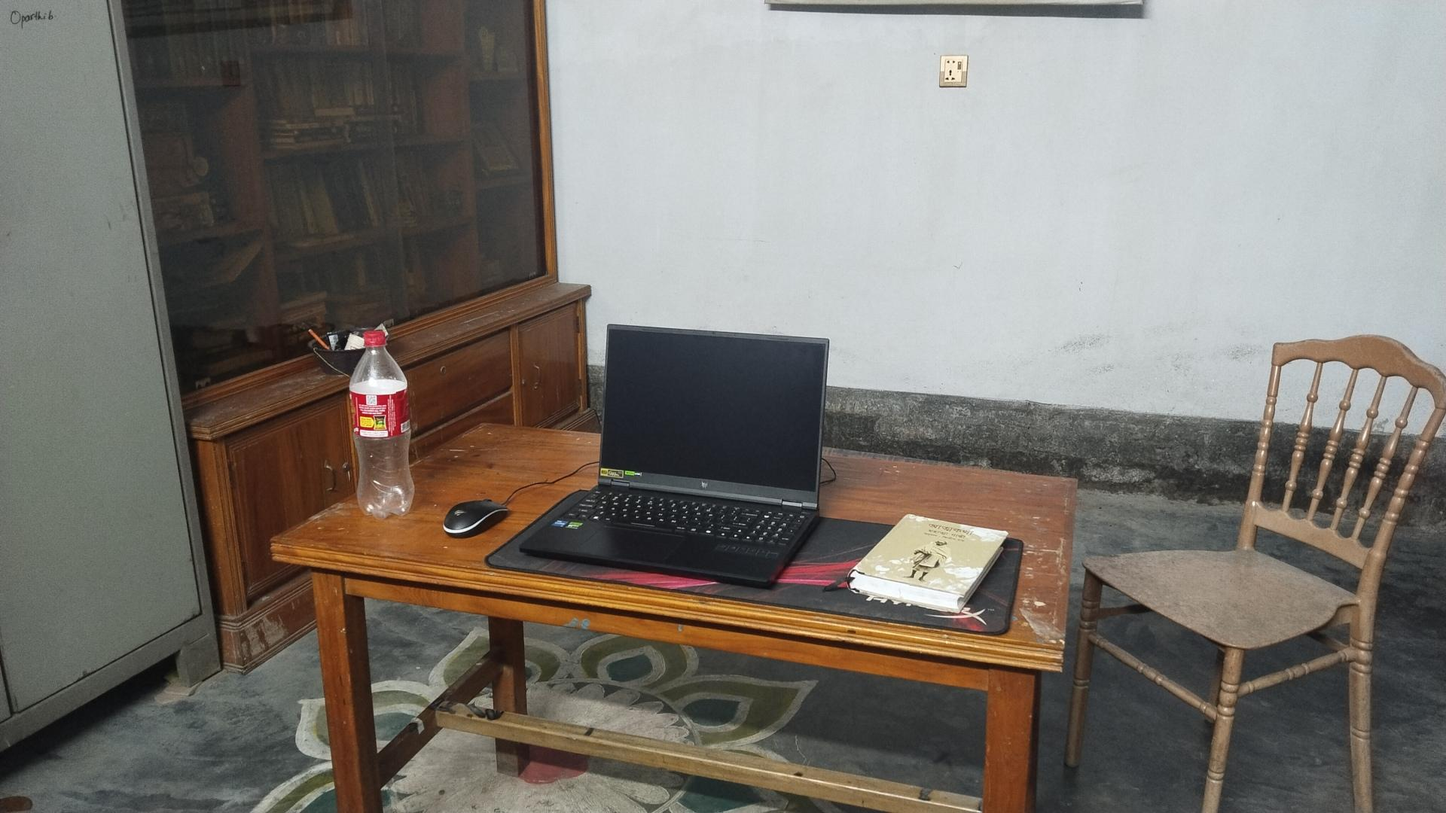Book: (850, 510, 1007, 601)
Bottle: (346, 333, 416, 513)
Chair: (1083, 343, 1446, 813)
Laptop: (521, 333, 827, 580)
Mouse: (443, 499, 507, 532)
Table: (273, 425, 1076, 813)
